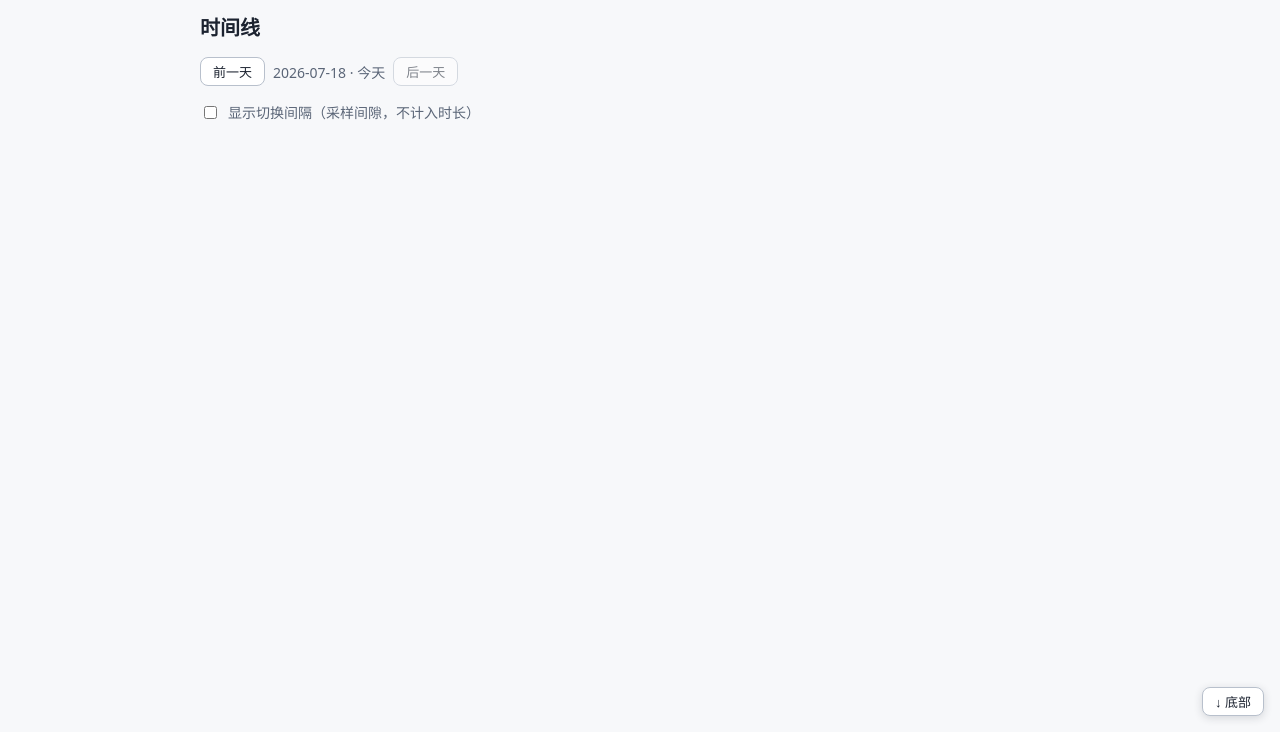
Test case: Timeline 页面 › 勾选后显示切换间隔，且切换间隔可被辅助技术感知
This screenshot has width=1280, height=732.
Click the checkbox at (210, 112), box [204,106,217,118]
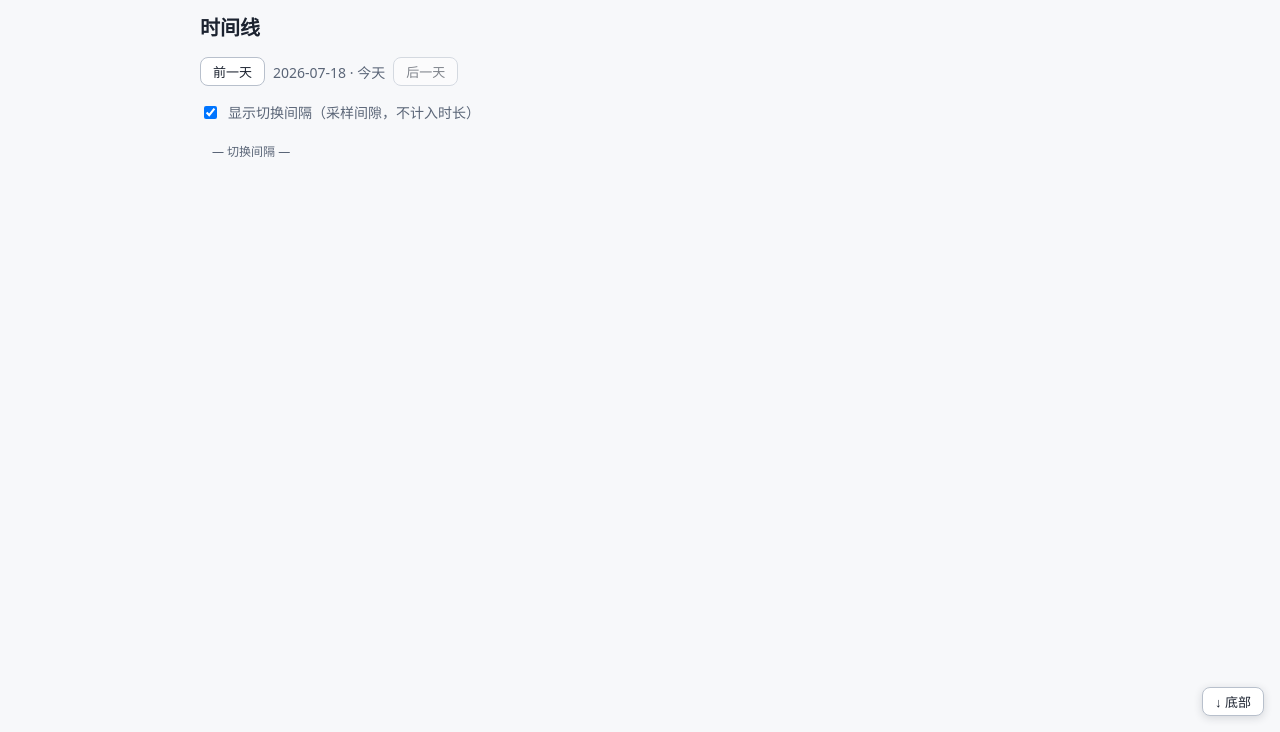
Now the list item "— 切换间隔 —" is shown, box [212,143,290,160]
